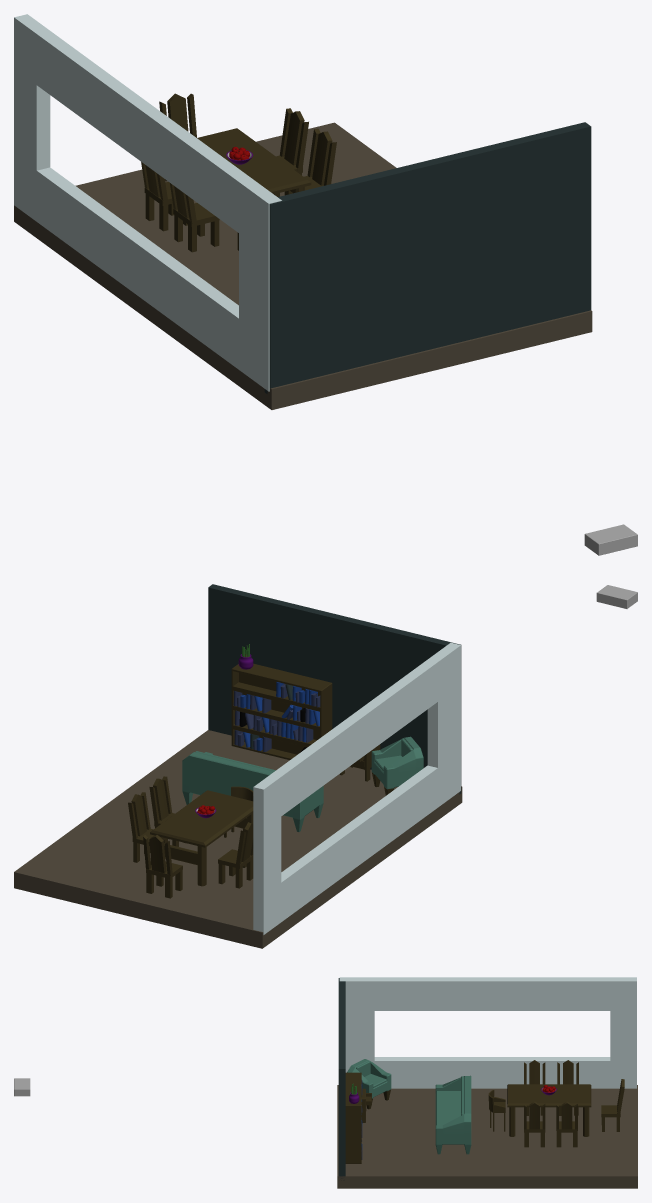
The model's file is Room_scene.fbx.
The picture shows the model from 3 angles, top to bottom: view 1: azimuth 30°, elevation 25°; view 2: azimuth 150°, elevation 25°; view 3: azimuth 270°, elevation 25°; orthographic projection. The views are drawn at different scales.
Visible parts, largest first — view 1: walls_floor, table, chair2, chair4, chair3, chair1, cabinet:drawer_closed, chair5; view 2: walls_floor, shelve, table, chair_simple:pCube4, chair_simple:pCube8, chair5, chair1, chair4, chair3, cabinet:drawer_closed; view 3: walls_floor, chair_simple:pCube4, table, shelve, chair_simple:pCube8, chair4, chair3, chair5, chair2, chair1, highchair, cabinet:drawer_closed.
Boxes of the visible parts, x1=… form: walls_floor: x1=14, y1=14, x2=592, y2=409; table: x1=197, y1=128, x2=311, y2=250; chair2: x1=170, y1=183, x2=219, y2=252; chair4: x1=274, y1=108, x2=308, y2=196; chair3: x1=284, y1=128, x2=336, y2=195; chair1: x1=141, y1=162, x2=187, y2=231; cabinet:drawer_closed: x1=584, y1=524, x2=637, y2=555; chair5: x1=159, y1=93, x2=196, y2=181; walls_floor: x1=14, y1=584, x2=462, y2=948; shelve: x1=231, y1=663, x2=332, y2=759; table: x1=150, y1=790, x2=253, y2=886; chair_simple:pCube4: x1=182, y1=751, x2=323, y2=831; chair_simple:pCube8: x1=371, y1=736, x2=423, y2=795; chair5: x1=143, y1=834, x2=182, y2=898; chair1: x1=218, y1=822, x2=253, y2=888; chair4: x1=128, y1=792, x2=167, y2=864; chair3: x1=149, y1=776, x2=185, y2=846; cabinet:drawer_closed: x1=596, y1=585, x2=637, y2=608; walls_floor: x1=337, y1=977, x2=637, y2=1188; chair_simple:pCube4: x1=435, y1=1075, x2=471, y2=1154; table: x1=507, y1=1084, x2=591, y2=1136; shelve: x1=345, y1=1072, x2=361, y2=1163; chair_simple:pCube8: x1=347, y1=1059, x2=391, y2=1109; chair4: x1=556, y1=1101, x2=577, y2=1147; chair3: x1=524, y1=1101, x2=545, y2=1147; chair5: x1=601, y1=1079, x2=624, y2=1131; chair2: x1=524, y1=1060, x2=545, y2=1115; chair1: x1=557, y1=1060, x2=578, y2=1115; highchair: x1=488, y1=1090, x2=505, y2=1131; cabinet:drawer_closed: x1=14, y1=1078, x2=30, y2=1096.
Bounding box in the file's own units: 13.14 × 8.01 × 37.84.
